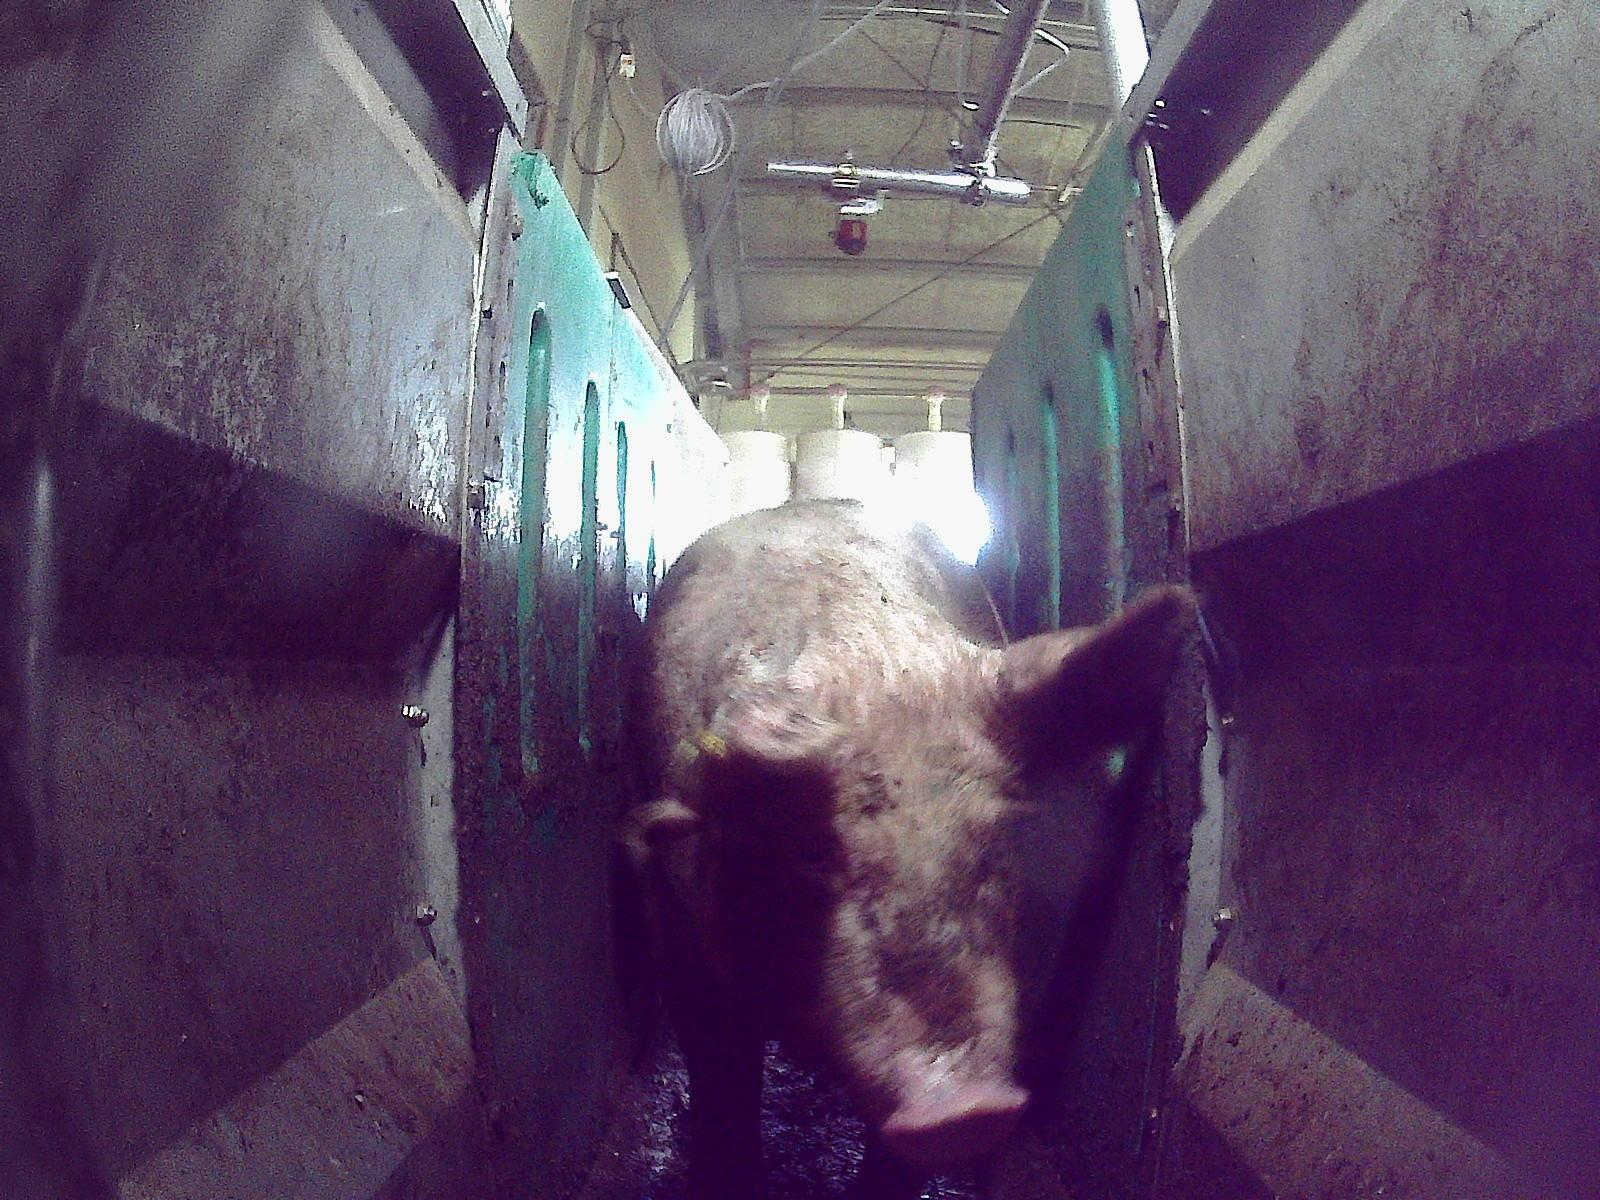Face: (715, 695, 1029, 1167)
